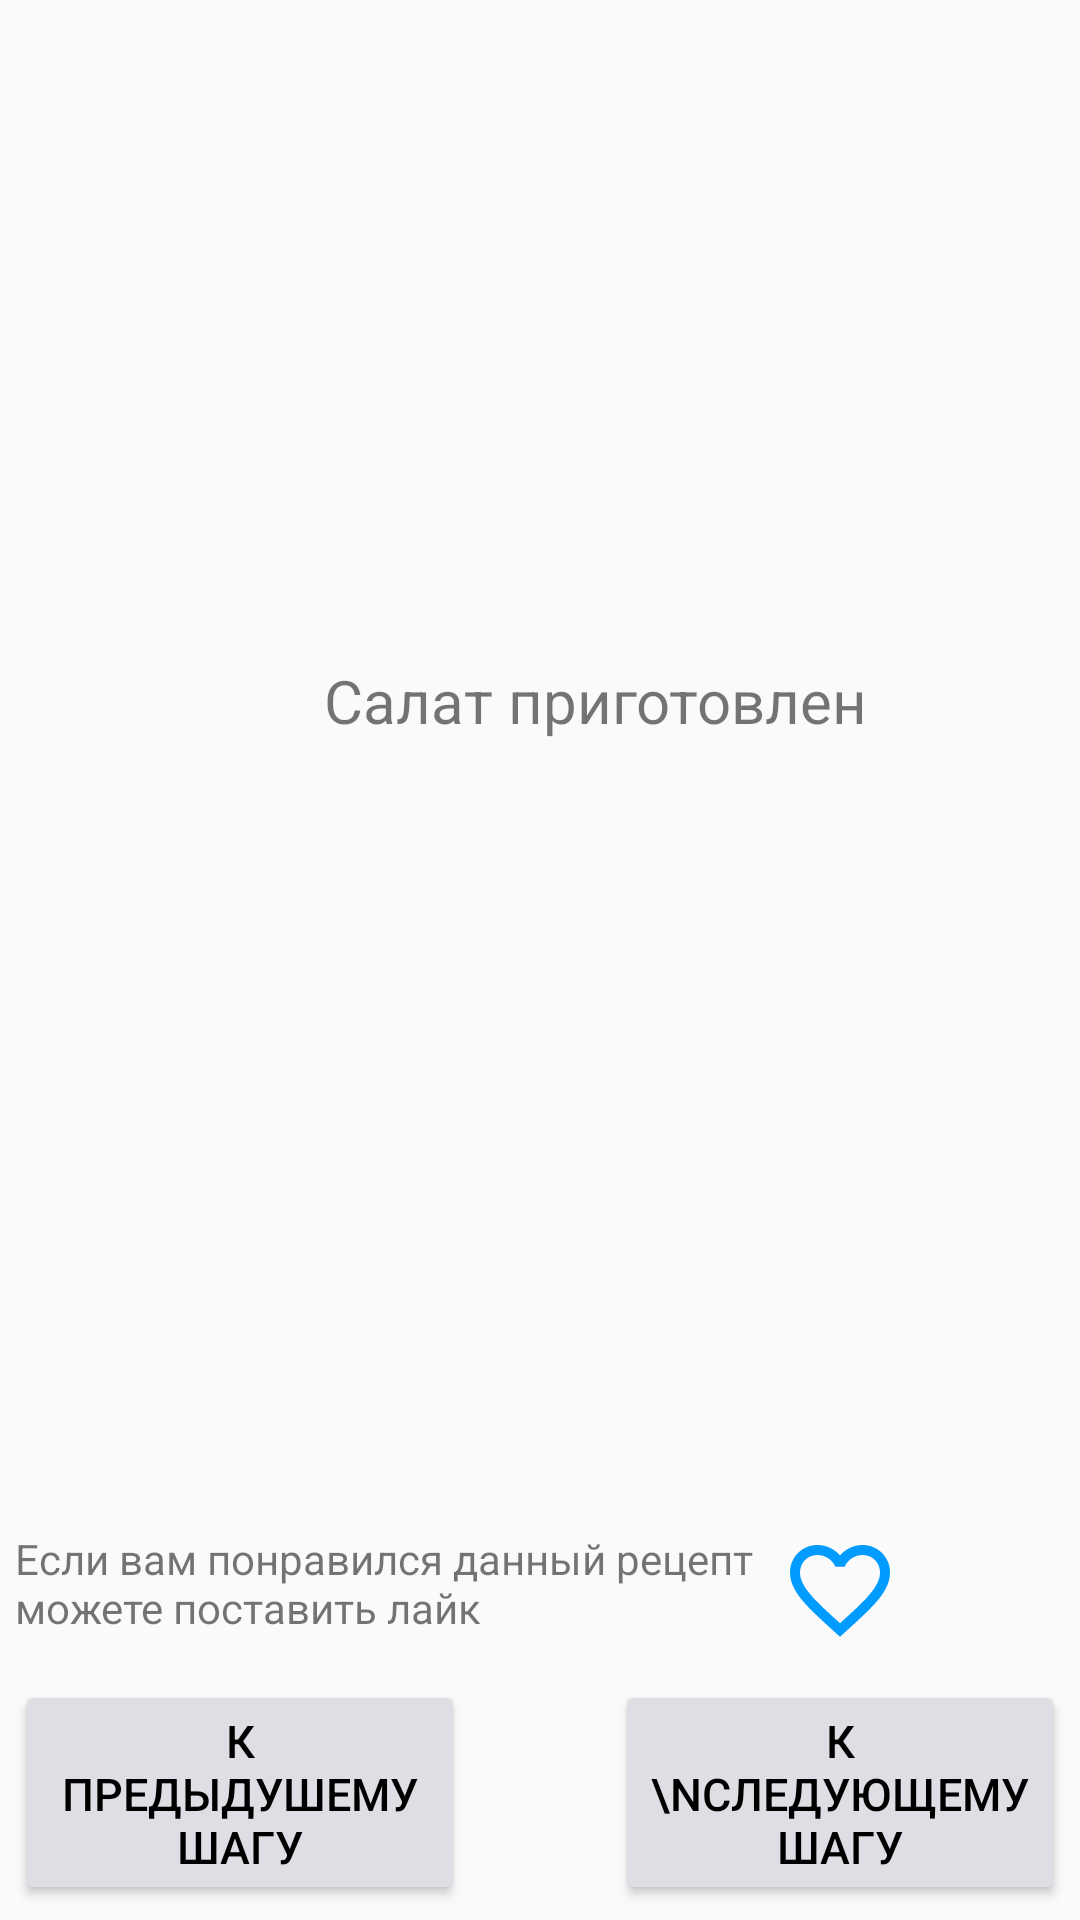

Icons on this 1080px×1920px Android screen, each with the point to tap as (x=x, y=y):
favorite border: (x=840, y=1591)
